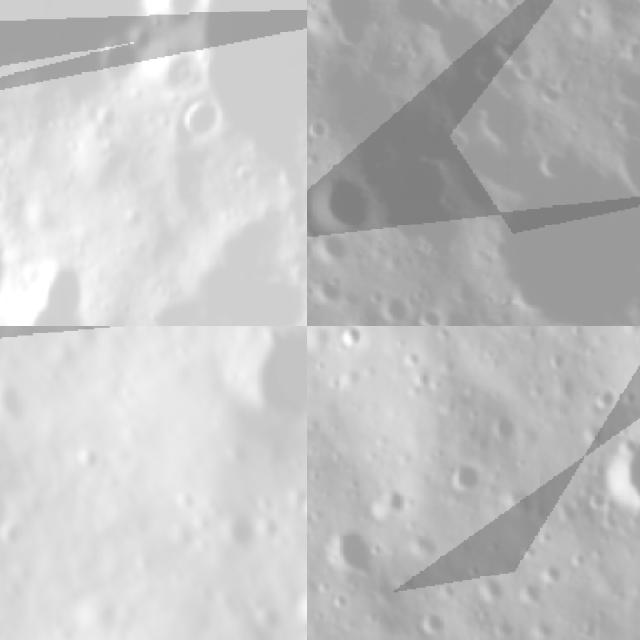crater: (472, 151, 640, 326), (208, 326, 307, 445), (307, 158, 379, 238), (15, 264, 92, 326), (307, 0, 379, 47), (603, 445, 640, 511), (321, 527, 376, 570), (68, 435, 115, 484), (0, 374, 38, 431), (220, 511, 264, 559), (186, 91, 218, 150), (99, 37, 141, 81), (371, 285, 410, 326), (411, 604, 452, 640), (0, 514, 35, 555), (452, 459, 486, 498), (135, 0, 201, 19), (516, 578, 544, 607), (293, 581, 307, 635), (337, 326, 364, 354), (539, 557, 566, 583), (297, 489, 307, 535), (255, 326, 299, 336), (55, 631, 86, 640)
